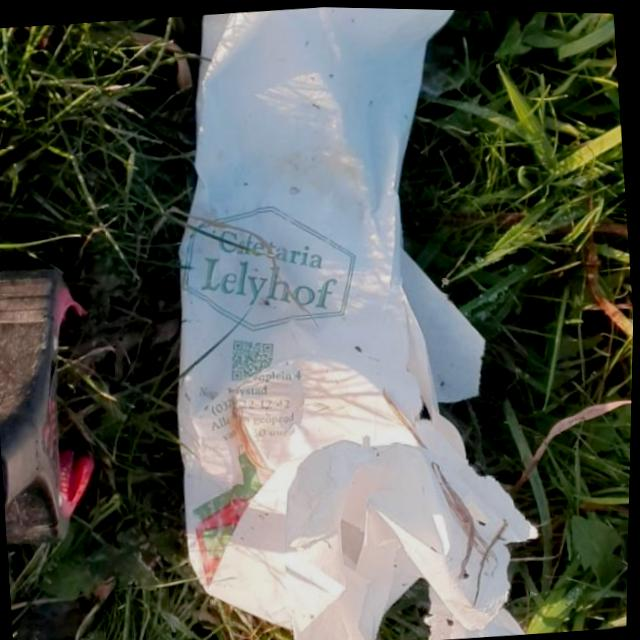Paper: (140, 3, 562, 640)
